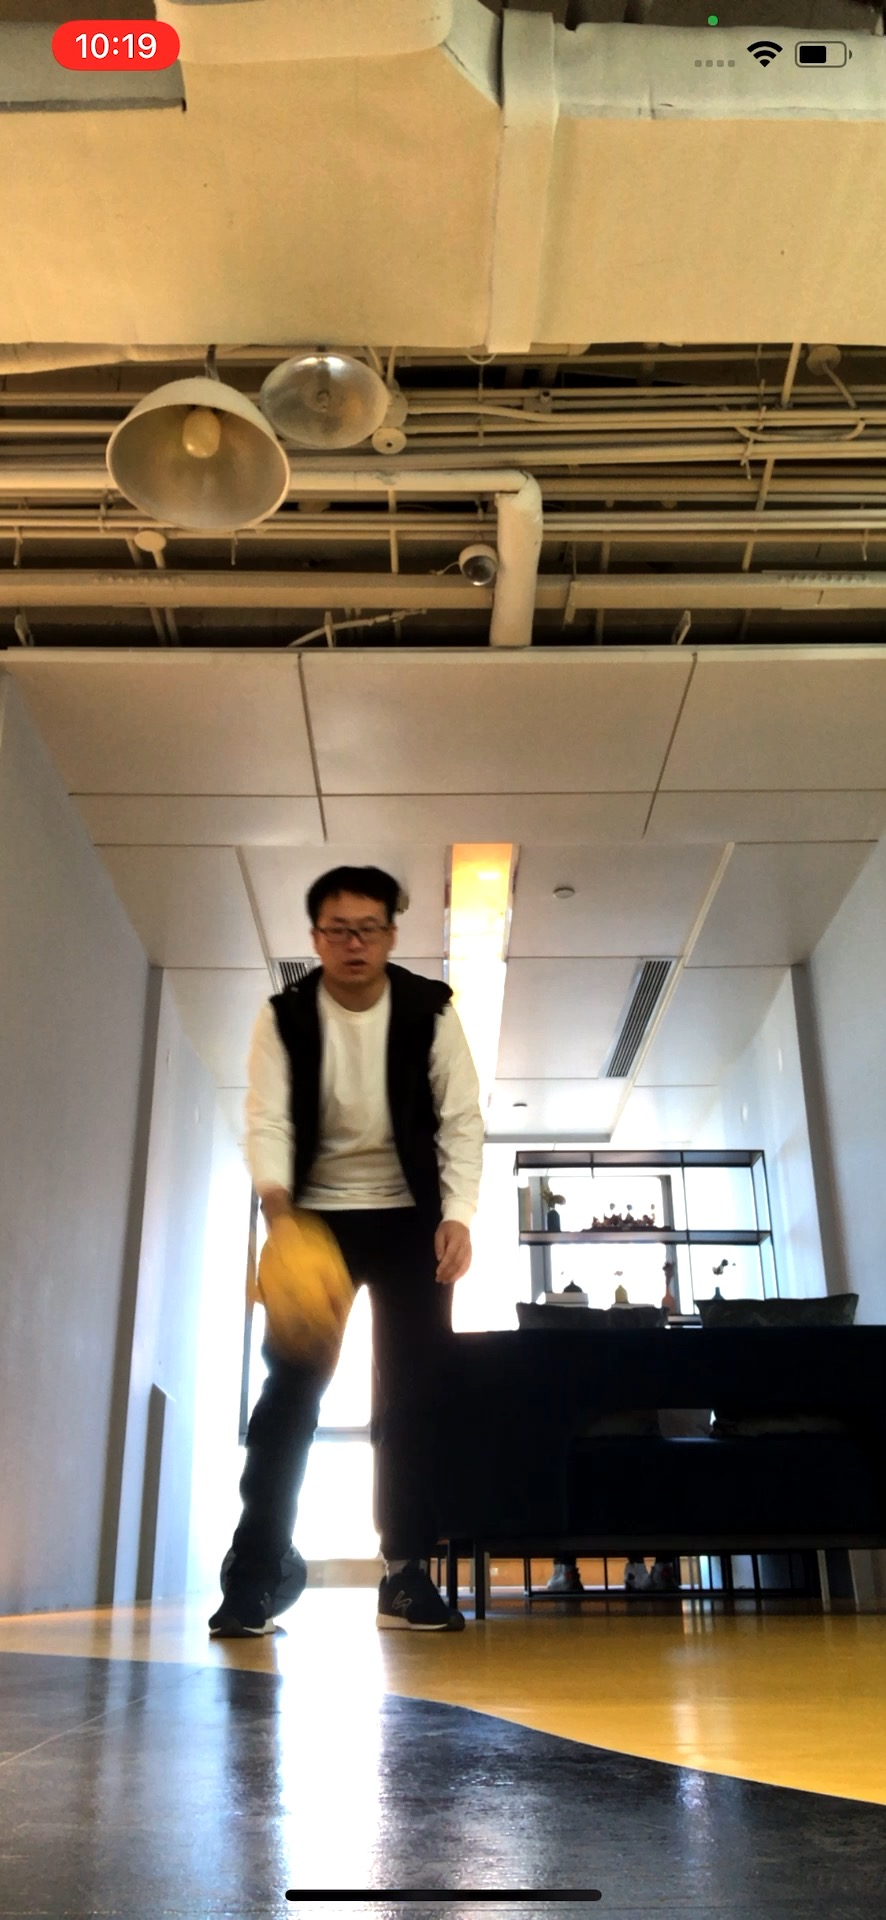ball: (248, 1223, 363, 1347)
